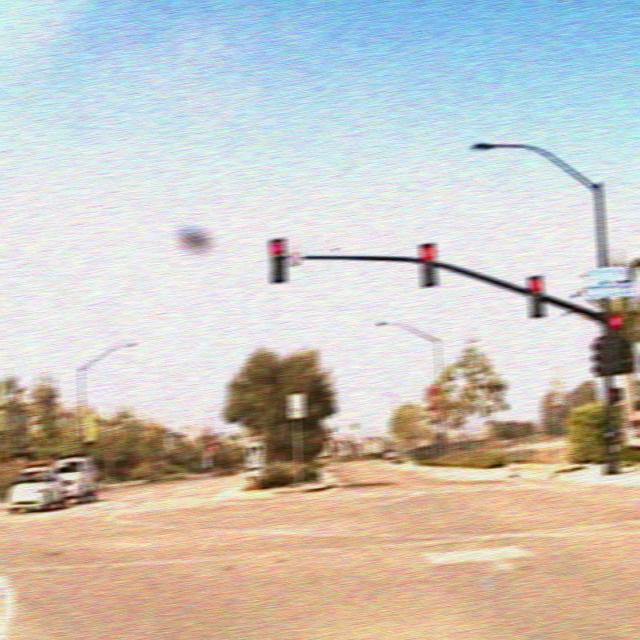speedLimit50: (287, 392, 305, 417)
